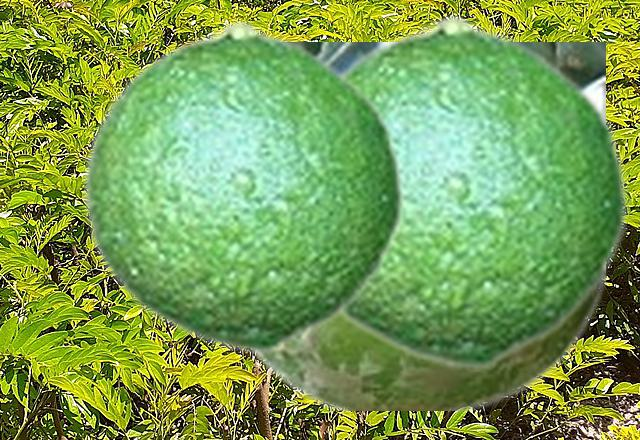dalandan: (246, 42, 604, 409), (79, 18, 405, 354), (338, 12, 629, 370)
